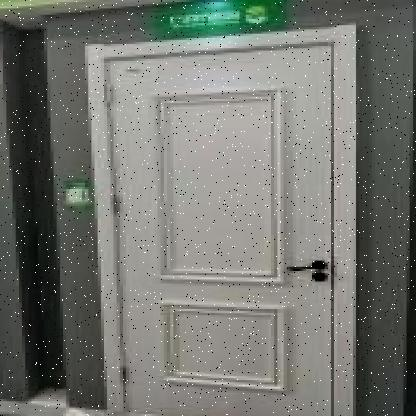door: (83, 16, 366, 416)
